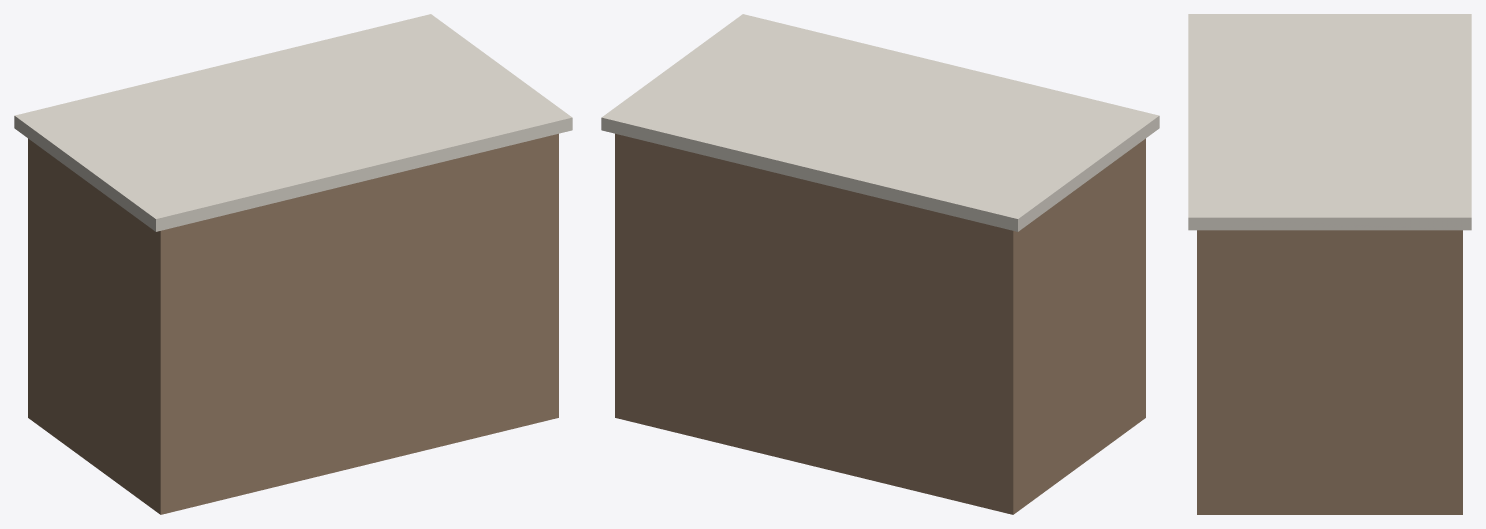
The model's file is item_table.glb.
3 views of the same model, side by side, from view 1: azimuth 30°, elevation 25°; view 2: azimuth 150°, elevation 25°; view 3: azimuth 270°, elevation 25° (orthographic).
Parts seen in each view (by area): view 1: box, box.001; view 2: box, box.001; view 3: box, box.001.
Boxes of the visible parts, left/top/right/bottom form: box: left=28, top=133, right=558, bottom=514; box.001: left=14, top=14, right=572, bottom=231; box: left=615, top=133, right=1145, bottom=514; box.001: left=601, top=14, right=1159, bottom=231; box: left=1197, top=230, right=1462, bottom=514; box.001: left=1188, top=14, right=1471, bottom=230.
Bounding box in the file's own units: 1.36 × 0.94 × 0.8.
